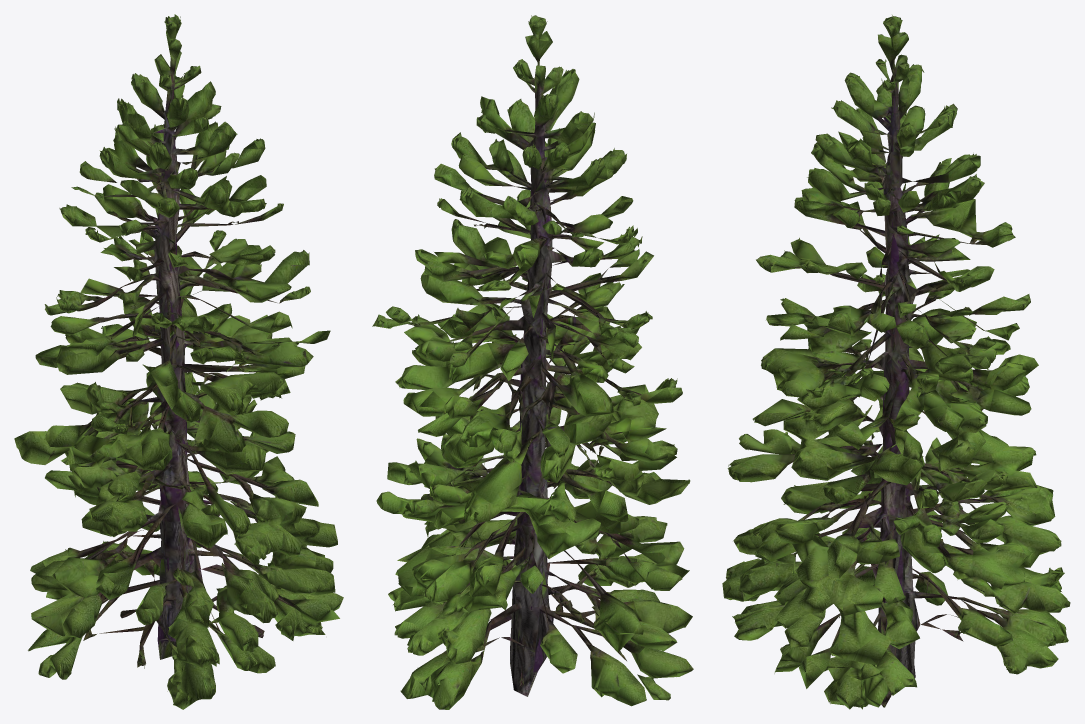
The model's file is pine.glb.
3 renders of one model, left to right at view 1: azimuth 30°, elevation 25°; view 2: azimuth 150°, elevation 25°; view 3: azimuth 270°, elevation 25°, orthographic. The views are drawn at different scales.
Parts seen in each view (by area): view 1: pack; view 2: pack; view 3: pack.
Boxes of the visible parts, <box> form: pack: <box>14,14,343,709</box>; pack: <box>372,15,693,709</box>; pack: <box>722,15,1070,709</box>.
Bounding box in the file's own units: 1.64 × 3.57 × 1.7.
Materials: 1 (1 with a texture image).
